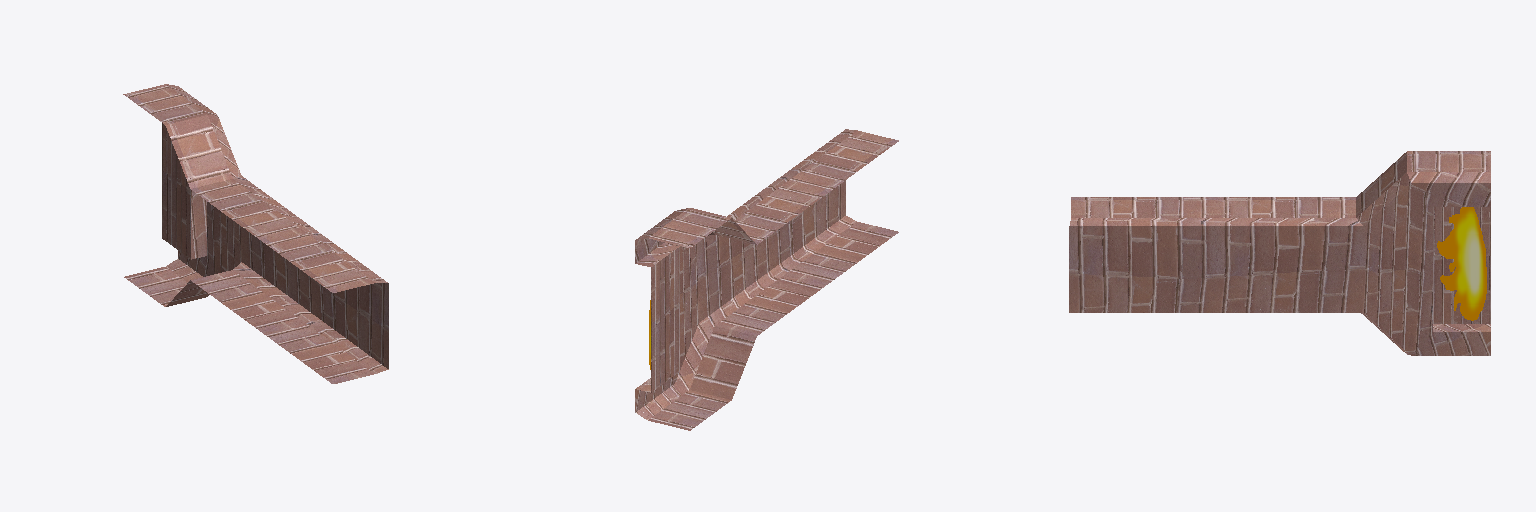
3 renders of one model, left to right at view 1: azimuth 30°, elevation 25°; view 2: azimuth 150°, elevation 25°; view 3: azimuth 270°, elevation 25°, orthographic.
Parts seen in each view (by area): view 1: Plane; view 2: Plane; view 3: Plane.
Boxes of the visible parts, x1,y1,x2,y2 form: Plane: [123, 84, 388, 383]; Plane: [635, 129, 898, 430]; Plane: [1069, 151, 1490, 355].
Size of the model in its own units: 0.3769 by 1.2 by 2.51.
Materials: 2 (2 with a texture image).